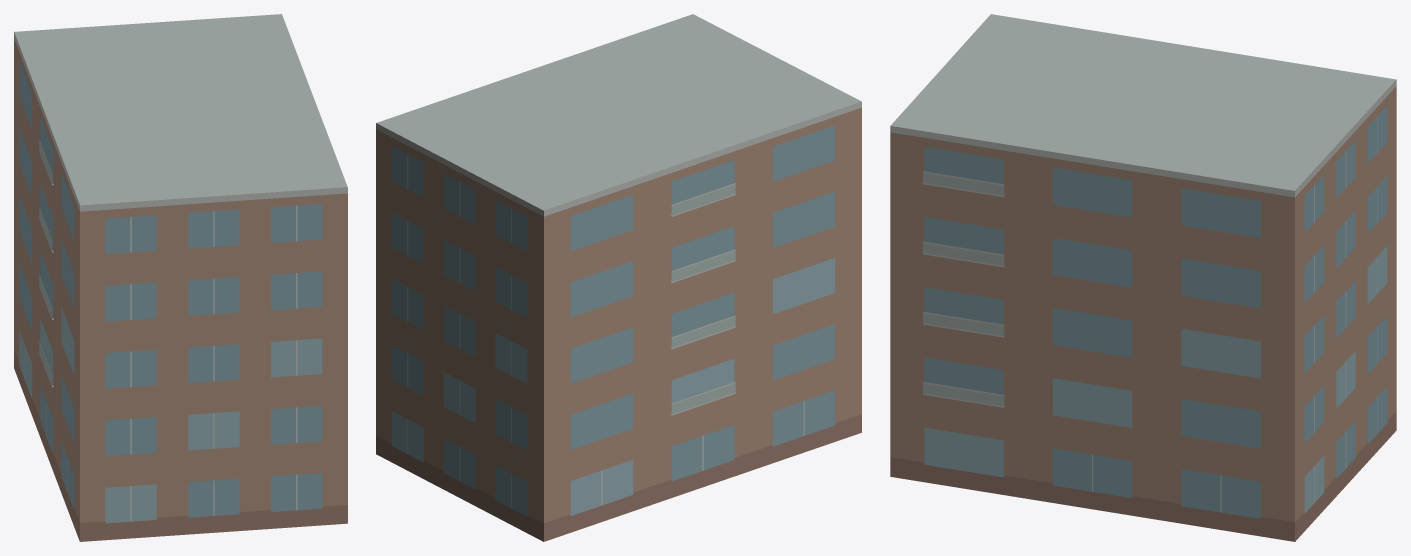
The model's file is survey-upis-32871847.glb.
The picture shows the model from 3 angles, left to right: view 1: azimuth 30°, elevation 25°; view 2: azimuth 150°, elevation 25°; view 3: azimuth 270°, elevation 25°; orthographic projection. The views are drawn at different scales.
Visible parts, largest first — view 1: survey-upis-32871847.tmp; view 2: survey-upis-32871847.tmp; view 3: survey-upis-32871847.tmp.
Part boxes in pixels (left/top/right/bottom): survey-upis-32871847.tmp: left=14, top=14, right=347, bottom=541; survey-upis-32871847.tmp: left=376, top=14, right=861, bottom=541; survey-upis-32871847.tmp: left=890, top=14, right=1396, bottom=541.
Size of the model in its own units: 14.4 by 13.3 by 17.4.
